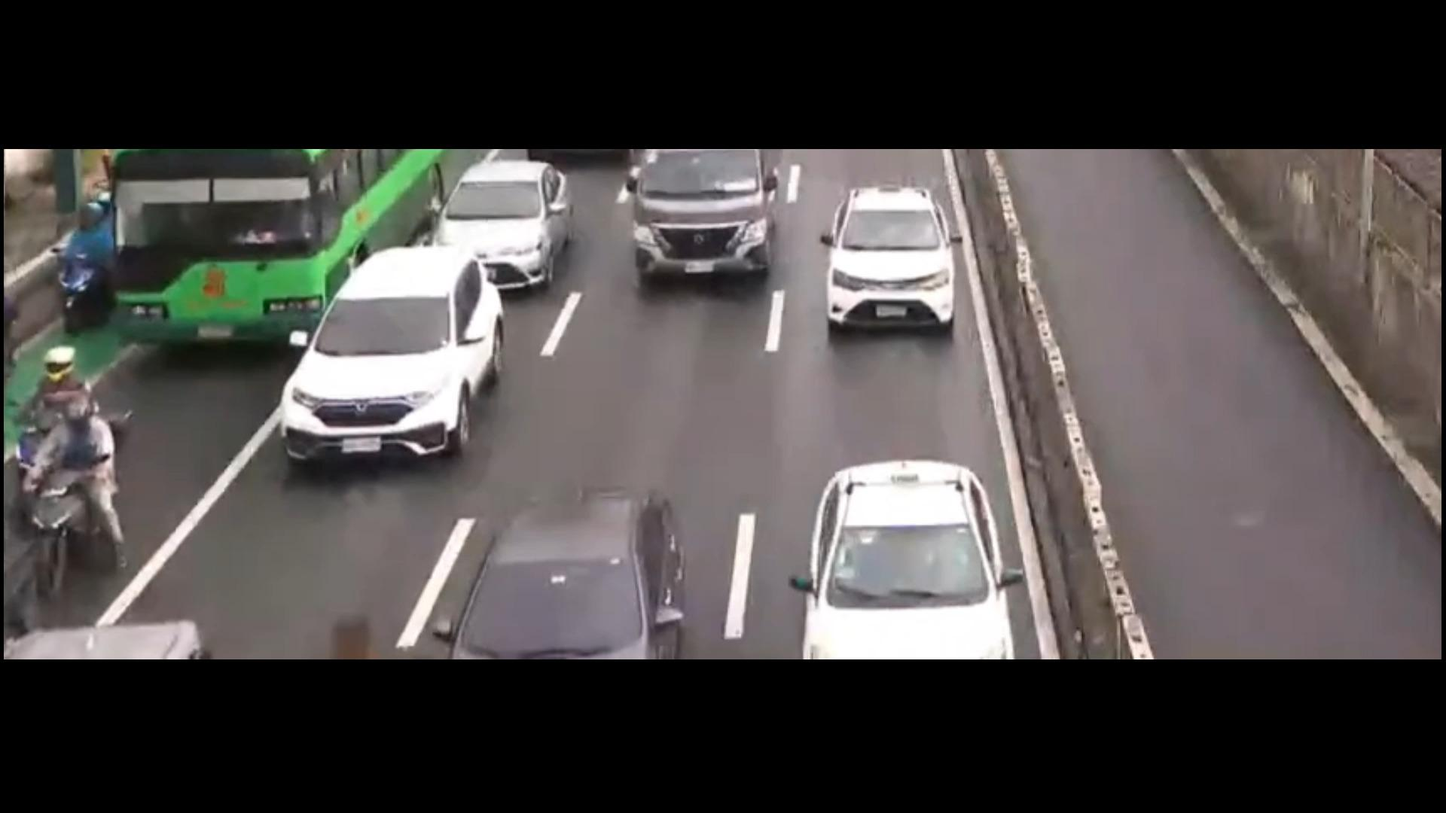Bus: (117, 145, 444, 360)
Motorcycle: (4, 375, 177, 607), (0, 337, 102, 521), (42, 190, 123, 318)
SUV: (247, 247, 518, 493)
Sedan: (435, 445, 705, 669), (786, 443, 1036, 657), (790, 166, 968, 366), (432, 155, 584, 292)
